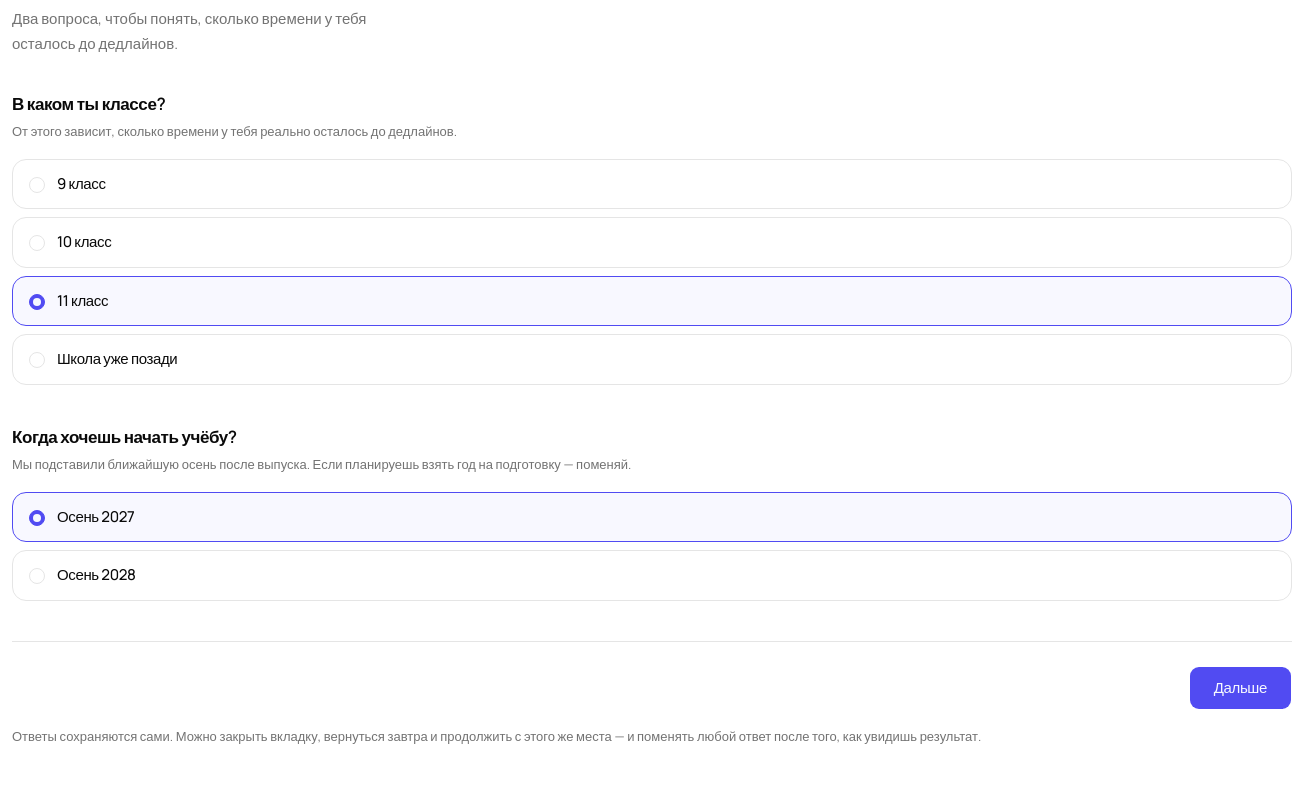
Scenario: Questionnaire › starts on the first group and advances to the next on clicking Next
(page scrolled)
Click the button "Дальше".
click(1240, 688)  # box [1189,666,1292,710]
(page scrolled)
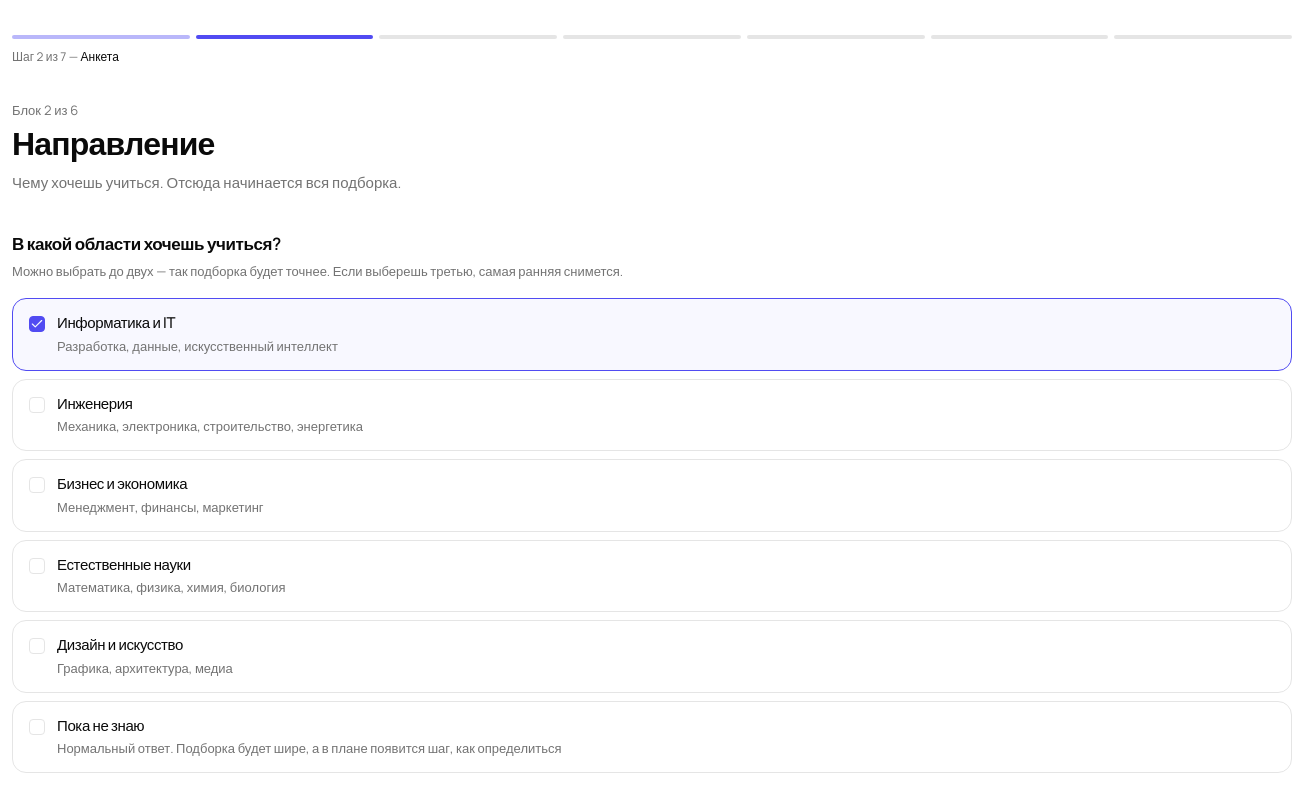
Expected: the heading reads "Направление", [12,120,214,164]
